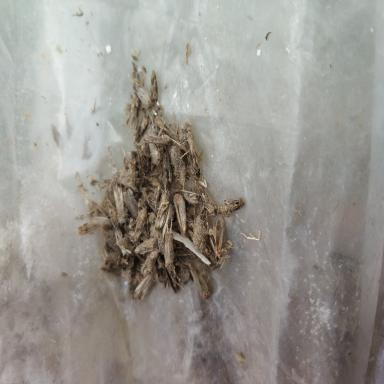pbw: (184, 174, 217, 218), (117, 93, 141, 138), (152, 189, 170, 235), (188, 263, 210, 299), (106, 196, 123, 239), (155, 114, 179, 143), (206, 218, 222, 260), (133, 198, 149, 239), (216, 197, 244, 218), (134, 272, 154, 300), (173, 193, 186, 236), (141, 248, 159, 276), (166, 266, 184, 293), (124, 189, 140, 219), (162, 202, 174, 239), (164, 219, 173, 268), (114, 189, 126, 223), (175, 189, 202, 204), (135, 114, 149, 142), (134, 237, 157, 254), (162, 151, 172, 190), (77, 220, 101, 234), (147, 191, 160, 214), (137, 88, 152, 107), (148, 142, 160, 164), (150, 70, 158, 102), (143, 134, 171, 143), (148, 174, 164, 189), (92, 216, 112, 224)
